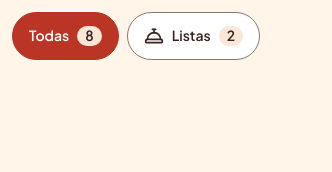
Scenario: FilterPills › agrupa las opciones, anuncia la elegida y lee el contador con el nombre
The image size is (332, 172).
What coordinates should you click on to do the following:
click the button "Listas 2"
I would click on:
 (193, 36)
Its box is [127,12,260,60].
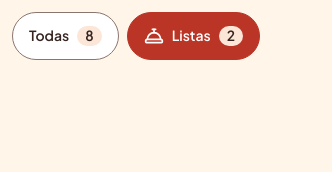
Check: the button "Listas 2" is pressed, box [127,12,260,60]
Check: the button "Todas 8" is not pressed, box [12,12,119,60]
